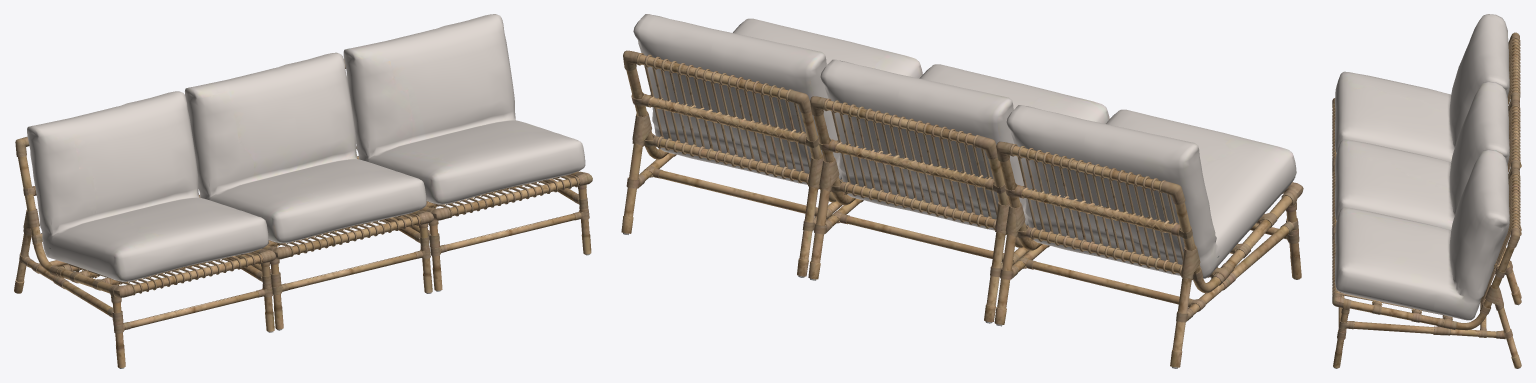
3 views of the same model, side by side, from view 1: azimuth 30°, elevation 25°; view 2: azimuth 150°, elevation 25°; view 3: azimuth 270°, elevation 25° (orthographic). The views are drawn at different scales.
Parts seen in each view (by area): view 1: 79489257_3_seat_modular_sofa_outdoor:5; view 2: 79489257_3_seat_modular_sofa_outdoor:5; view 3: 79489257_3_seat_modular_sofa_outdoor:5.
Boxes of the visible parts, x1,y1,x2,y2 form: 79489257_3_seat_modular_sofa_outdoor:5: [14, 14, 592, 368]; 79489257_3_seat_modular_sofa_outdoor:5: [621, 14, 1303, 368]; 79489257_3_seat_modular_sofa_outdoor:5: [1332, 14, 1521, 368].
Bounding box in the file's own units: 2 × 0.7125 × 0.787.
1 material, 1 textured.
